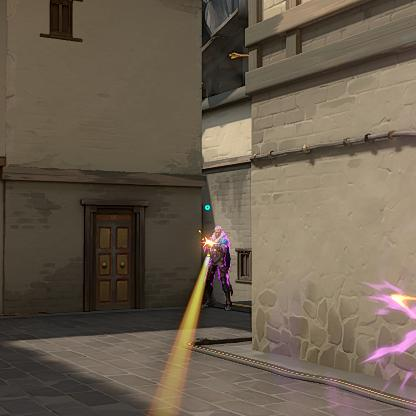enemyBody: (212, 238, 223, 262)
enemyHead: (215, 229, 220, 236)
